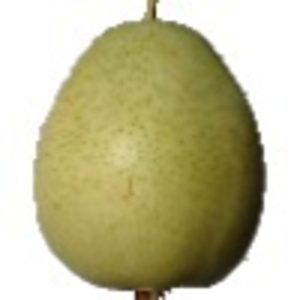pera: (30, 1, 267, 300)
